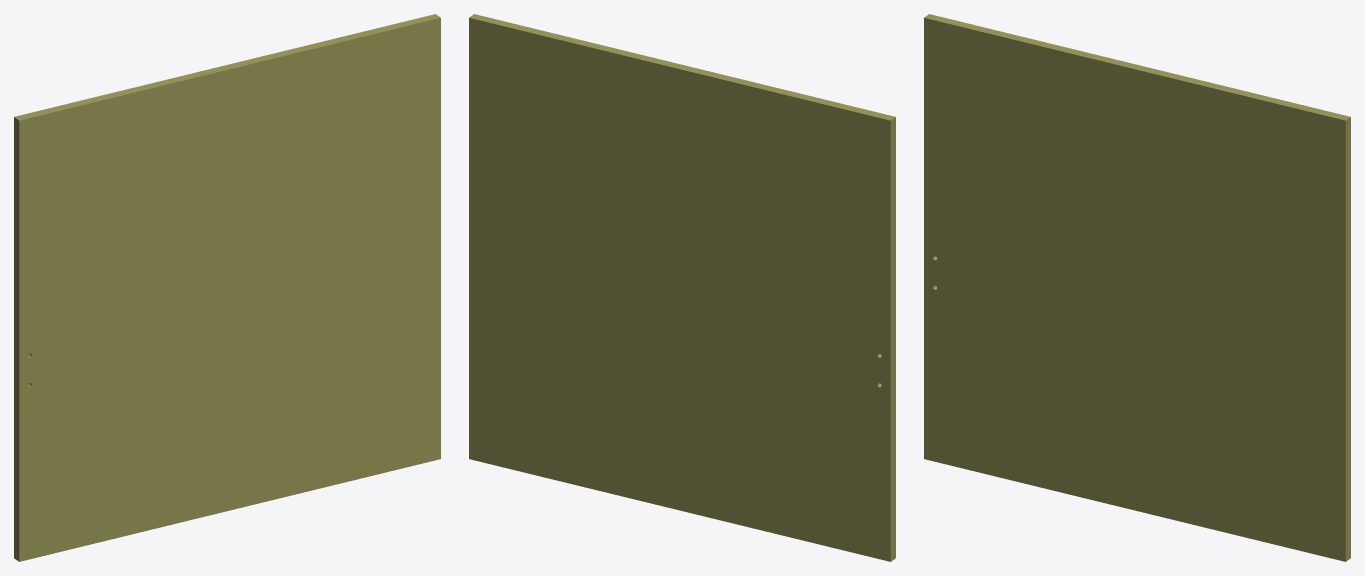
The model's file is OBJ_PCB_esp32 6 steeper controller.obj.
The picture shows the model from 3 angles, left to right: view 1: azimuth 30°, elevation 25°; view 2: azimuth 150°, elevation 25°; view 3: azimuth 330°, elevation 25°; orthographic projection.
Bounding box in the file's own units: 471 × 471 × 10.
